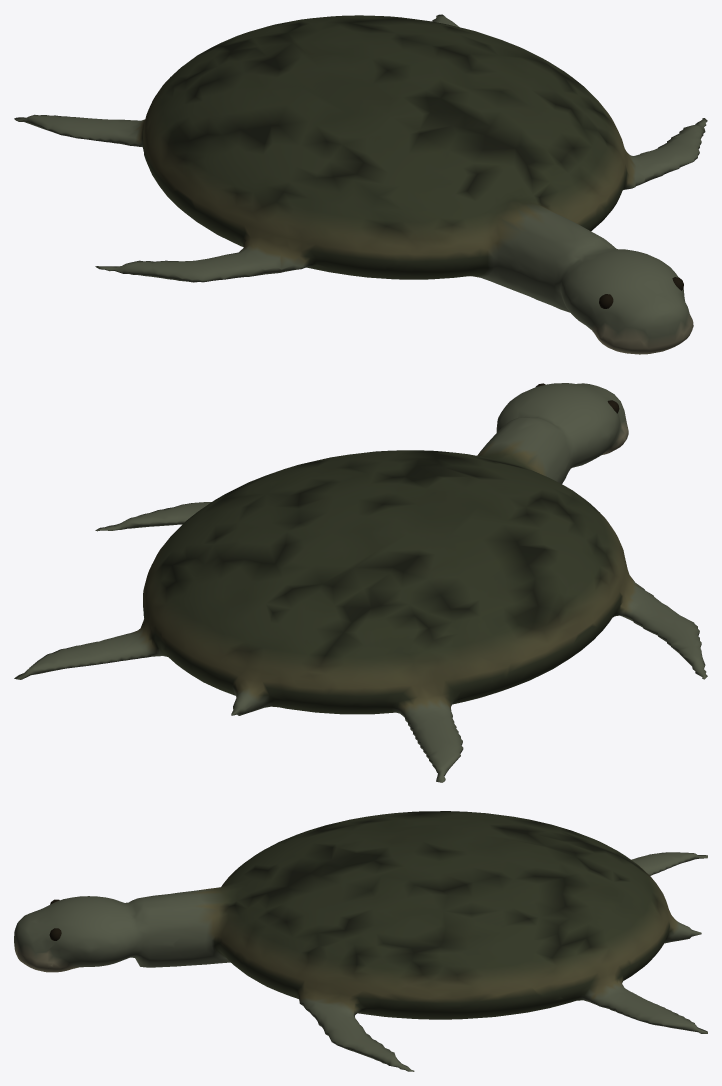
File: CarbonemysCofrinii.fbx
The picture shows the model from 3 angles, top to bottom: view 1: azimuth 30°, elevation 25°; view 2: azimuth 150°, elevation 25°; view 3: azimuth 270°, elevation 25°; orthographic projection. The views are drawn at different scales.
Parts seen in each view (by area): view 1: CarbonemysCofrinii; view 2: CarbonemysCofrinii; view 3: CarbonemysCofrinii.
Part boxes in pixels (box(x1,y1,x2,y2)): CarbonemysCofrinii: box(14, 14, 707, 354); CarbonemysCofrinii: box(14, 383, 707, 782); CarbonemysCofrinii: box(14, 811, 707, 1071).
Size of the model in its own units: 1.51 by 0.3373 by 1.74.
